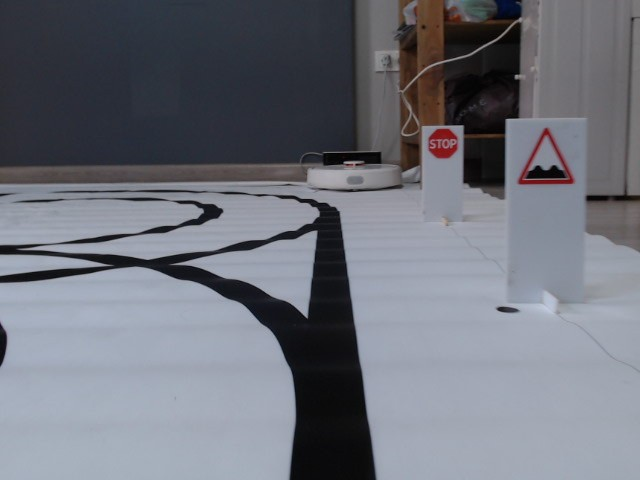Nerov: (511, 124, 575, 191)
Stop: (426, 129, 460, 160)
